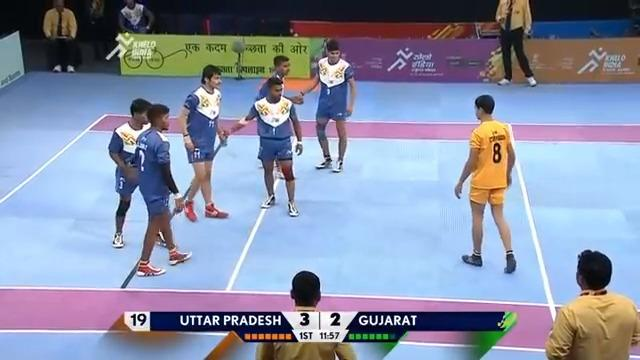Player: (219, 75, 306, 217), (128, 102, 193, 278), (176, 62, 230, 222), (295, 37, 358, 173), (107, 91, 151, 224), (262, 49, 288, 83)
Raider: (452, 92, 519, 275)
referee: (544, 248, 639, 359), (254, 270, 357, 359), (494, 0, 537, 87), (42, 0, 79, 73)
